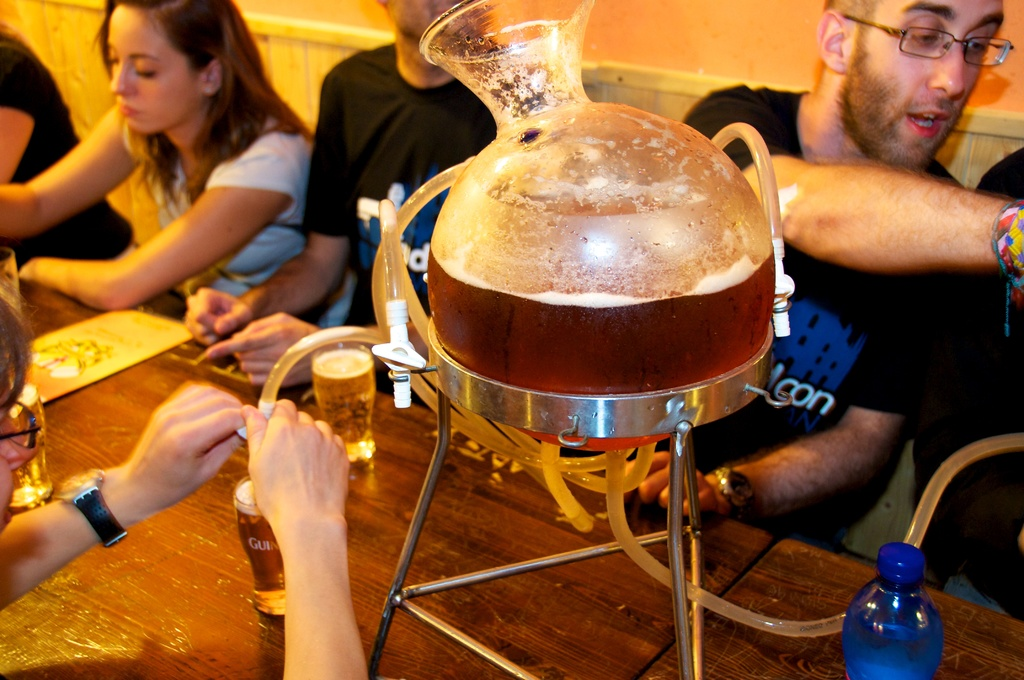Beer: (432, 253, 773, 392), (236, 475, 286, 617), (321, 341, 376, 452)
